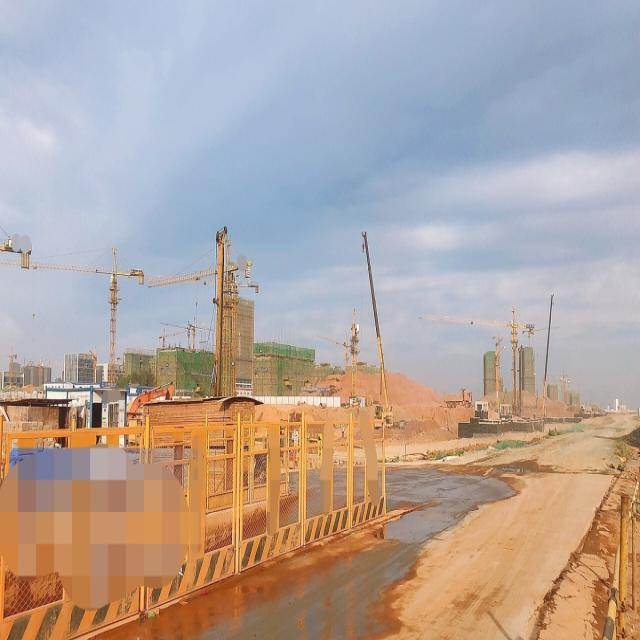crane: (0, 245, 145, 389), (147, 238, 252, 396), (419, 306, 534, 410), (361, 231, 393, 429), (229, 271, 258, 396), (541, 293, 554, 416), (351, 308, 360, 397), (494, 337, 505, 406)
excavator: (126, 381, 174, 427)
truck: (444, 388, 471, 408)
